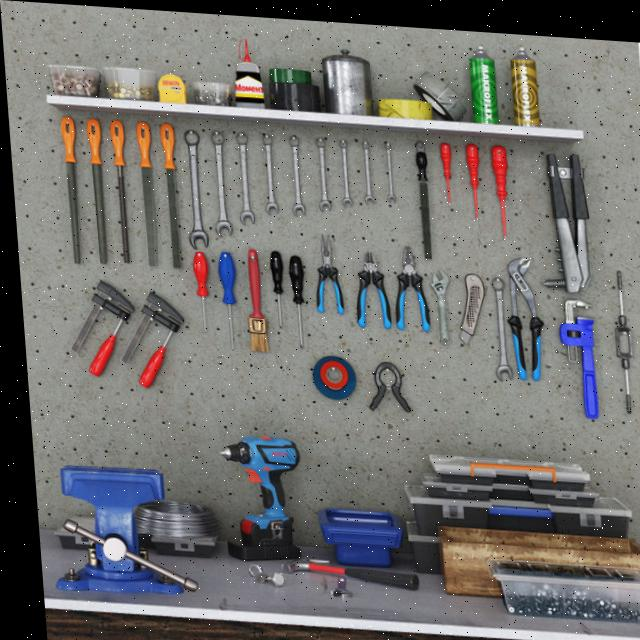Screwdriver: (215, 249, 232, 347), (489, 138, 505, 231), (285, 252, 300, 343), (189, 249, 204, 329), (464, 138, 478, 215), (266, 247, 279, 324), (438, 137, 449, 200)
